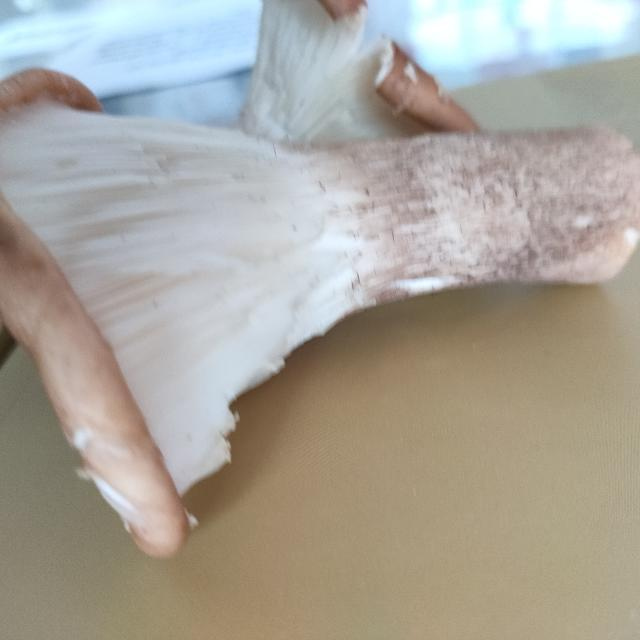Clitocybe maxima: (0, 68, 639, 556)
